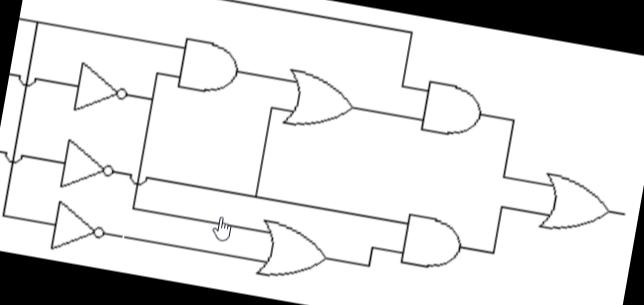and: (388, 204, 471, 282), (168, 29, 249, 106), (410, 70, 490, 146)
not: (54, 129, 120, 194), (46, 195, 110, 258), (70, 56, 132, 119)
or: (525, 160, 621, 254), (247, 214, 339, 288), (278, 61, 362, 139)
